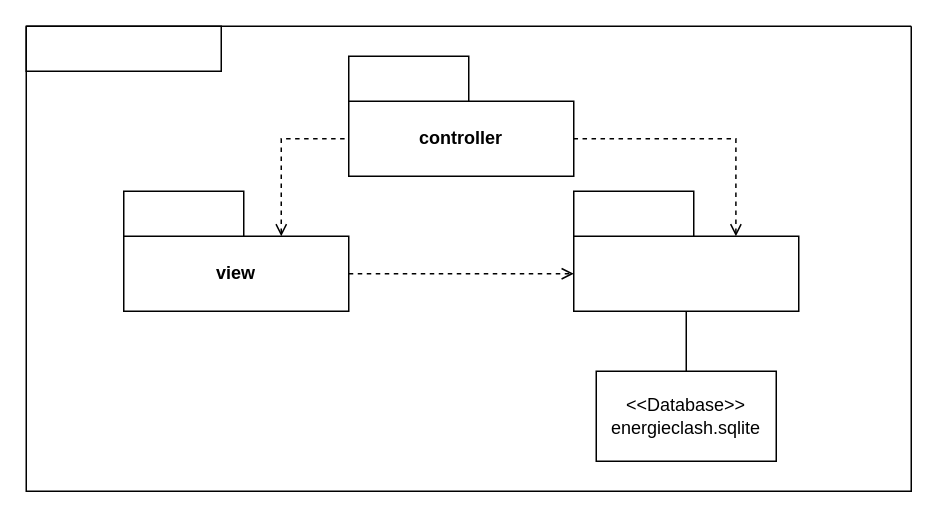
The diagram is 938 pixels wide and 518 high, and some of its shapes have lost their labels. The box of each missing label's shape, as (x1, y1, x2, y2) in pixels:
EnergieClash System: (25, 25, 221, 71)
model: (572, 190, 799, 311)
